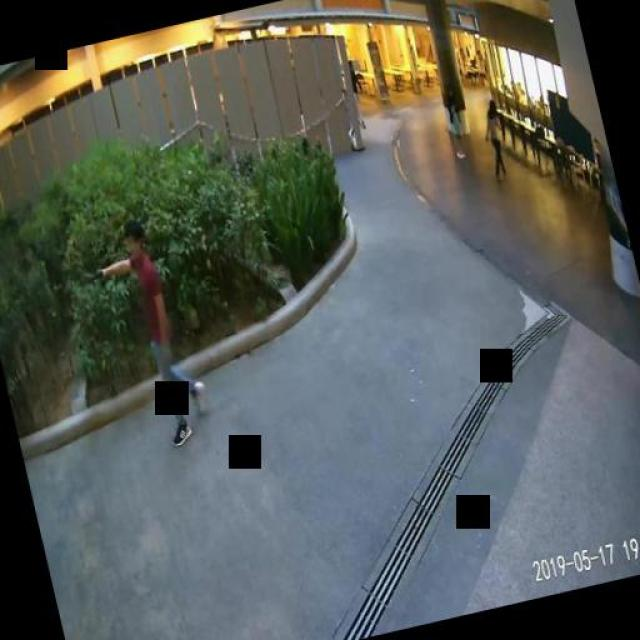gun: (85, 265, 105, 284)
